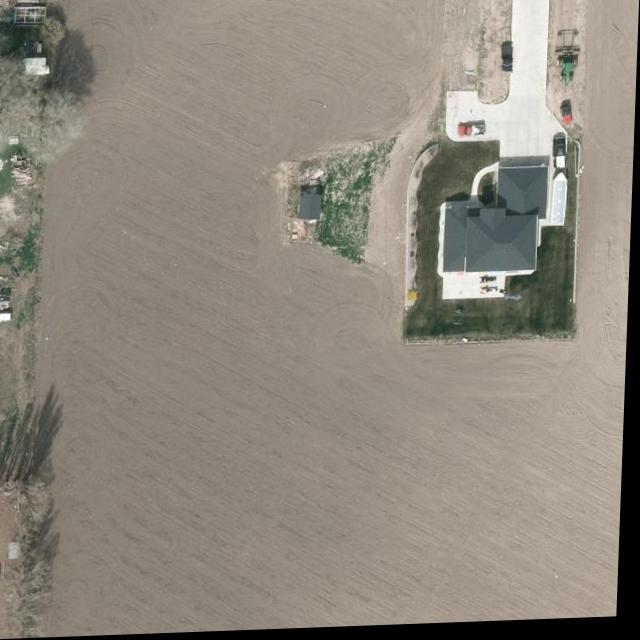vehicle: (552, 140, 569, 176), (457, 126, 488, 145), (499, 48, 516, 78), (0, 311, 15, 323)
